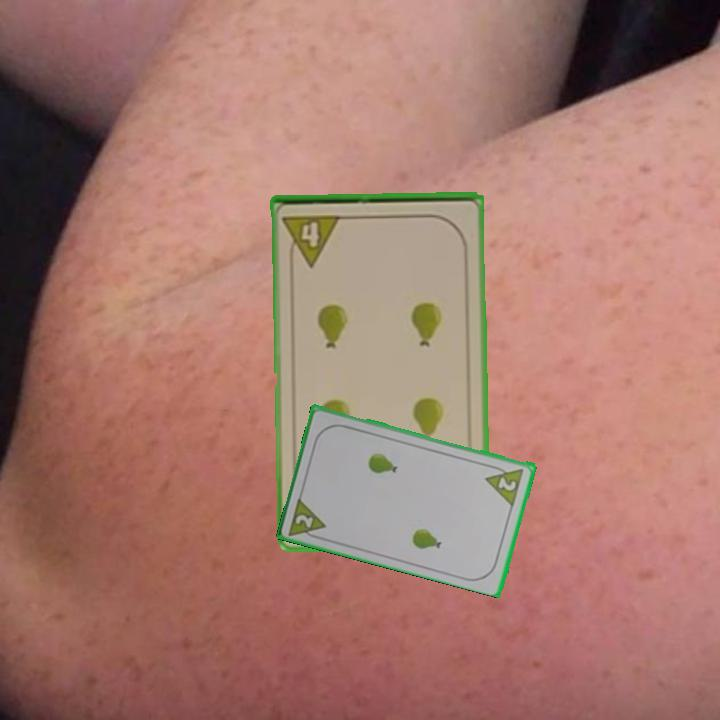2p: (285, 493, 329, 543), (482, 461, 527, 507)
4p: (279, 211, 344, 269)
